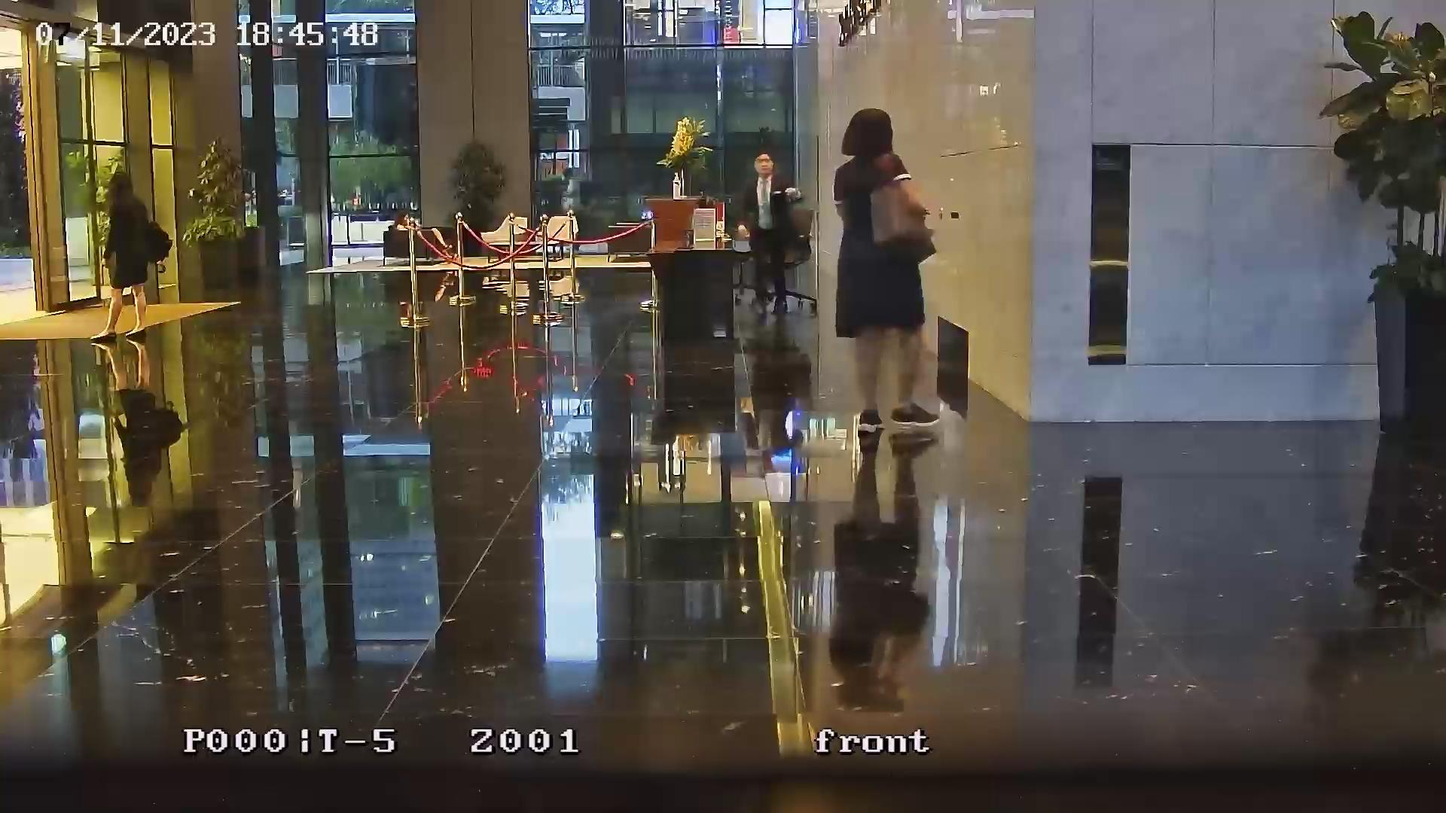person: (831, 107, 941, 434), (96, 170, 170, 337), (732, 151, 806, 316), (394, 210, 458, 265)
